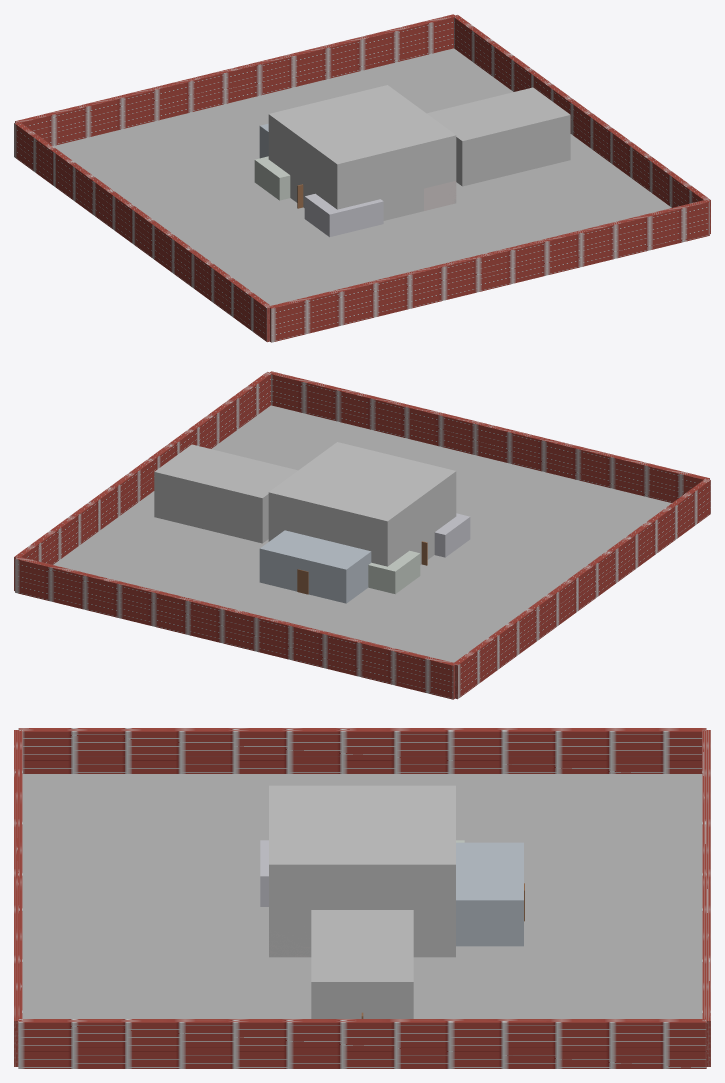
The model's file is college_revesz_long_with_wall.glb.
3 renders of one model, top to bottom at view 1: azimuth 30°, elevation 25°; view 2: azimuth 150°, elevation 25°; view 3: azimuth 270°, elevation 25°, orthographic. The views are drawn at different scales.
Visible parts, largest first — view 1: Ground_Yard, Building_MainCore, Wall_South, Wall_North, Wall_West, Building_EastHall, Wall_East, Room_Classroom, Room_Library, Room_Infirmary; view 2: Ground_Yard, Wall_North, Building_MainCore, Wall_South, Wall_West, Building_EastHall, Wall_East, Building_Entrance, Room_Library, Room_Classroom; view 3: Ground_Yard, Wall_East, Wall_West, Building_MainCore, Building_EastHall, Building_Entrance, Wall_North, Wall_South, Room_Classroom.
Part boxes in pixels (x1,y1,x2,y2): Ground_Yard: (53,48,671,305); Building_MainCore: (268,85,456,220); Wall_South: (268,199,709,342); Wall_North: (15,14,456,145); Wall_West: (14,122,270,342); Building_EastHall: (427,87,570,186); Wall_East: (454,14,710,233); Room_Classroom: (304,193,383,237); Room_Library: (254,156,290,200); Room_Infirmary: (424,181,456,210); Ground_Yard: (53,405,671,662); Wall_North: (15,556,456,699); Building_MainCore: (268,442,456,566); Wall_South: (269,371,709,502); Wall_West: (454,478,710,699); Building_EastHall: (154,444,297,543); Wall_East: (14,371,271,590); Building_Entrance: (259,530,371,603); Room_Library: (368,550,420,594); Room_Classroom: (434,513,470,557); Ground_Yard: (22,774,702,1018); Wall_East: (18,1019,706,1068); Wall_West: (18,728,706,773); Building_MainCore: (269,785,455,957); Building_EastHall: (311,910,413,1018); Building_Entrance: (456,842,523,946); Wall_North: (702,730,710,1066); Wall_South: (14,730,22,1066); Room_Classroom: (260,840,268,906).
Bounding box in the file's own units: 82 × 12.5 × 82.
1 material, 1 textured.
